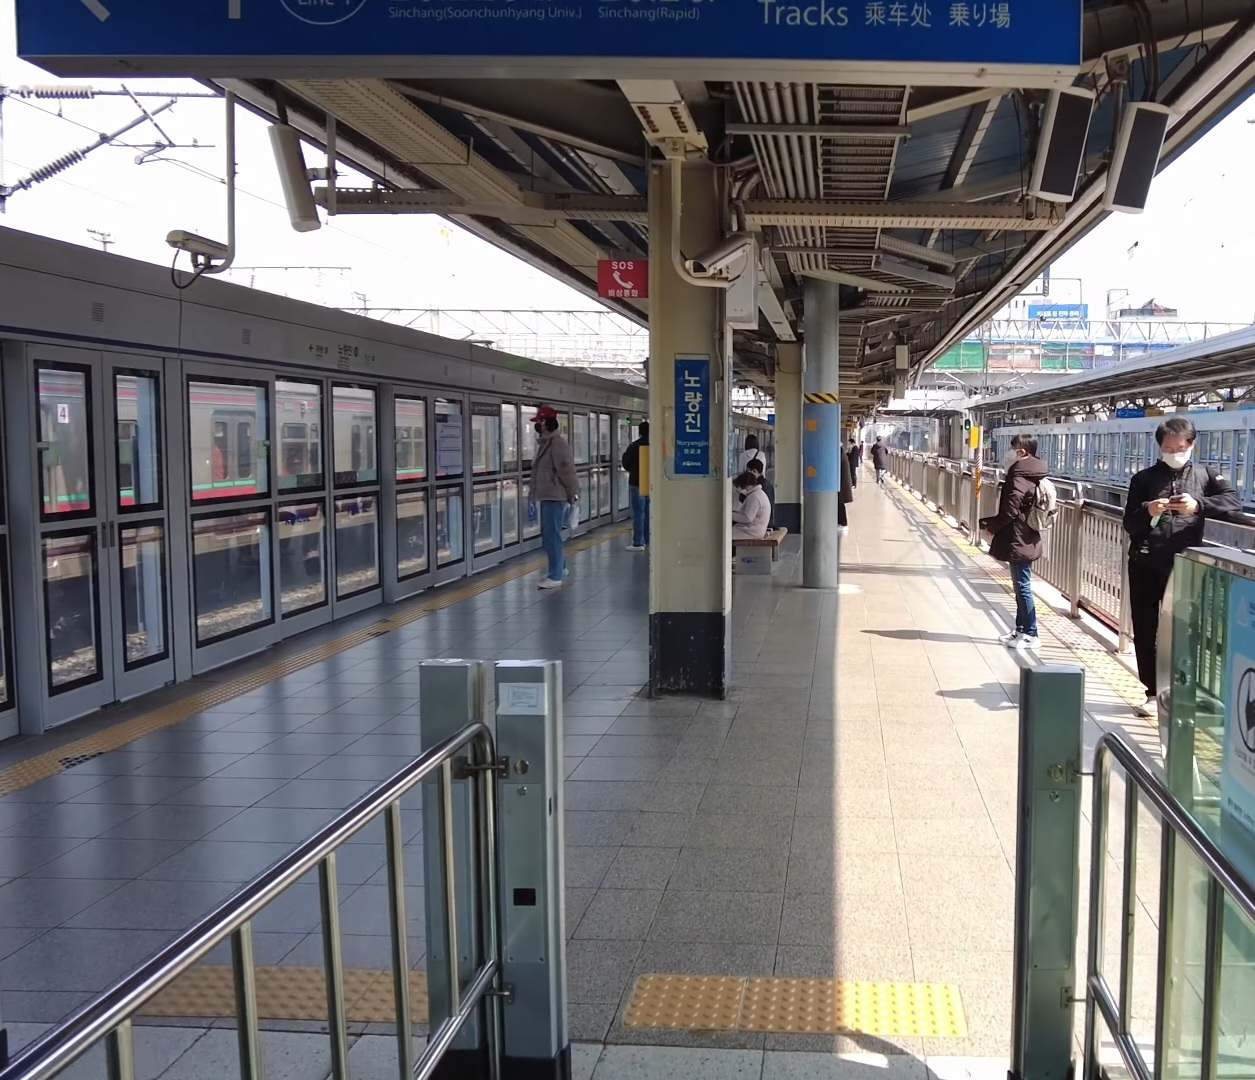warningBlock: (634, 971, 753, 1044), (859, 974, 967, 1041), (746, 976, 860, 1032)
